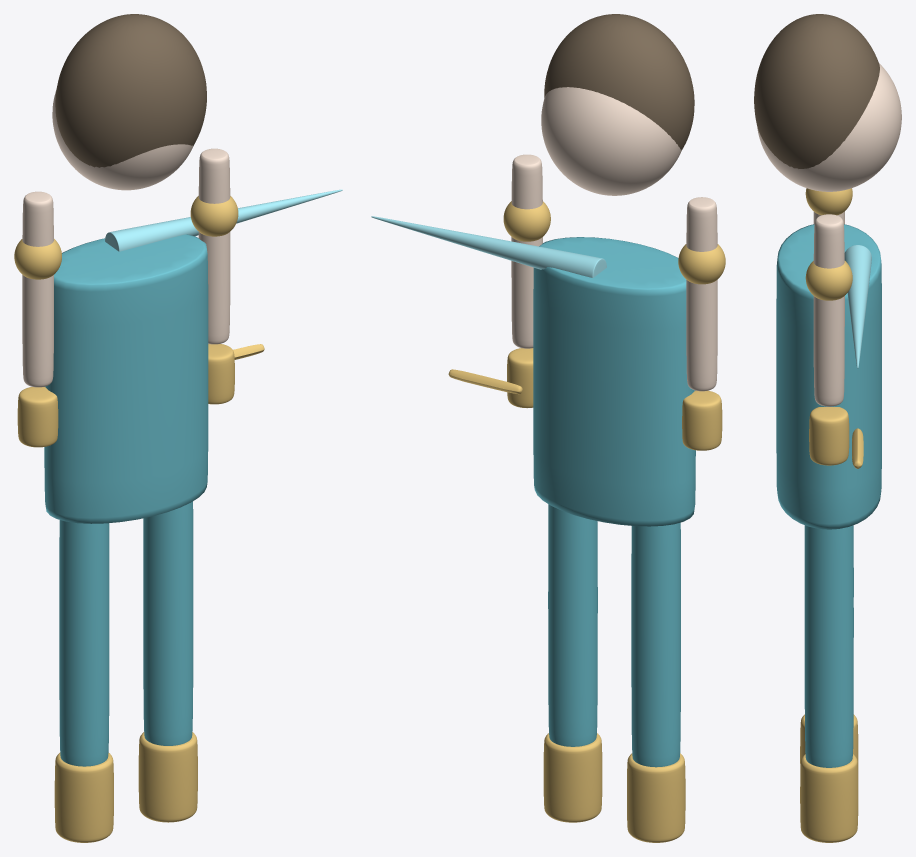
The model's file is lyra_blockout.glb.
The picture shows the model from 3 angles, left to right: view 1: azimuth 30°, elevation 25°; view 2: azimuth 150°, elevation 25°; view 3: azimuth 270°, elevation 25°; orthographic projection.
Parts seen in each view (by area): view 1: Lyra_Torso, Lyra_Hair, Lyra_Leg_L, Lyra_Leg_R, Lyra_Arm_L, Lyra_Boot_R, Lyra_Boot_L, Lyra_Arm_R, Lyra_Head, Lyra_Sword_Blade, Lyra_Glove_L, Lyra_Glove_R (+2 smaller); view 2: Lyra_Torso, Lyra_Leg_L, Lyra_Leg_R, Lyra_Hair, Lyra_Head, Lyra_Arm_L, Lyra_Boot_R, Lyra_Boot_L, Lyra_Arm_R, Lyra_Sword_Blade, Lyra_Glove_L, Lyra_Shoulder_L (+3 smaller); view 3: Lyra_Torso, Lyra_Hair, Lyra_Leg_R, Lyra_Head, Lyra_Arm_R, Lyra_Boot_R, Lyra_Glove_R, Lyra_Sword_Blade, Lyra_Shoulder_R, Lyra_Shoulder_L, Lyra_Boot_L, Lyra_Sword_Handle.
Boxes of the visible parts, x1,y1,x2,y2 form: Lyra_Torso: (44, 234, 208, 523); Lyra_Hair: (55, 14, 206, 167); Lyra_Leg_L: (59, 520, 109, 766); Lyra_Leg_R: (143, 501, 193, 745); Lyra_Arm_L: (22, 191, 53, 387); Lyra_Boot_R: (138, 732, 197, 822); Lyra_Boot_L: (54, 752, 113, 842); Lyra_Arm_R: (198, 148, 230, 344); Lyra_Head: (52, 90, 193, 190); Lyra_Sword_Blade: (105, 189, 342, 251); Lyra_Glove_L: (17, 387, 58, 447); Lyra_Glove_R: (208, 344, 234, 404); Lyra_Torso: (533, 237, 695, 526); Lyra_Leg_L: (631, 522, 680, 767); Lyra_Leg_R: (548, 504, 597, 746); Lyra_Hair: (544, 14, 694, 150); Lyra_Head: (541, 87, 681, 195); Lyra_Arm_L: (686, 197, 717, 391); Lyra_Boot_R: (543, 733, 602, 822); Lyra_Boot_L: (627, 753, 685, 842); Lyra_Arm_R: (511, 154, 542, 348); Lyra_Sword_Blade: (371, 216, 606, 277); Lyra_Glove_L: (682, 390, 722, 450); Lyra_Shoulder_L: (678, 244, 725, 284); Lyra_Torso: (776, 224, 881, 529); Lyra_Hair: (754, 14, 879, 168); Lyra_Leg_R: (804, 525, 853, 767); Lyra_Head: (757, 63, 901, 191); Lyra_Arm_R: (813, 214, 844, 406); Lyra_Boot_R: (800, 754, 858, 842); Lyra_Glove_R: (809, 407, 849, 465); Lyra_Sword_Blade: (844, 245, 871, 368); Lyra_Shoulder_R: (805, 261, 852, 300); Lyra_Shoulder_L: (805, 188, 852, 215); Lyra_Boot_L: (800, 714, 858, 773); Lyra_Sword_Handle: (852, 428, 863, 468).
Size of the model in its own units: 1.62 by 3.67 by 0.6214.
